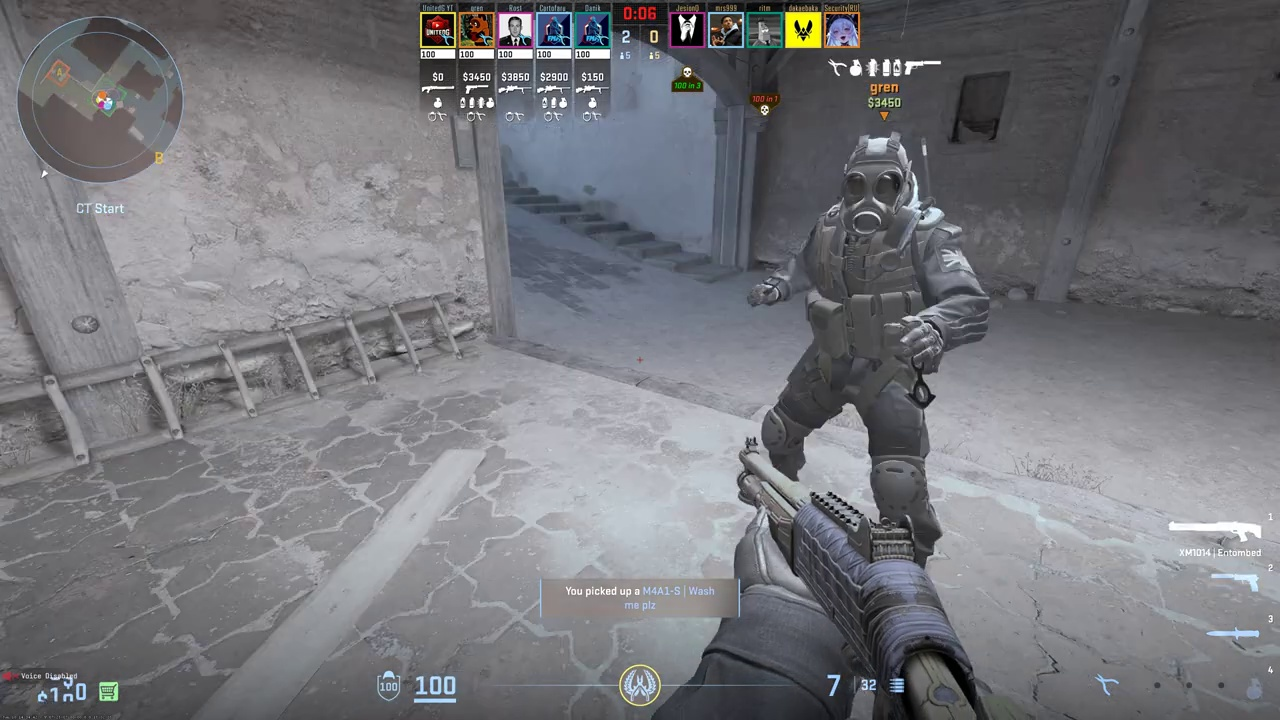CT: (775, 138, 968, 567)
